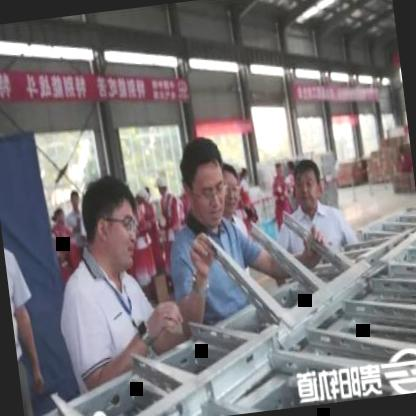head: (76, 172, 146, 280), (178, 134, 236, 230), (288, 150, 326, 217), (215, 162, 243, 218)
